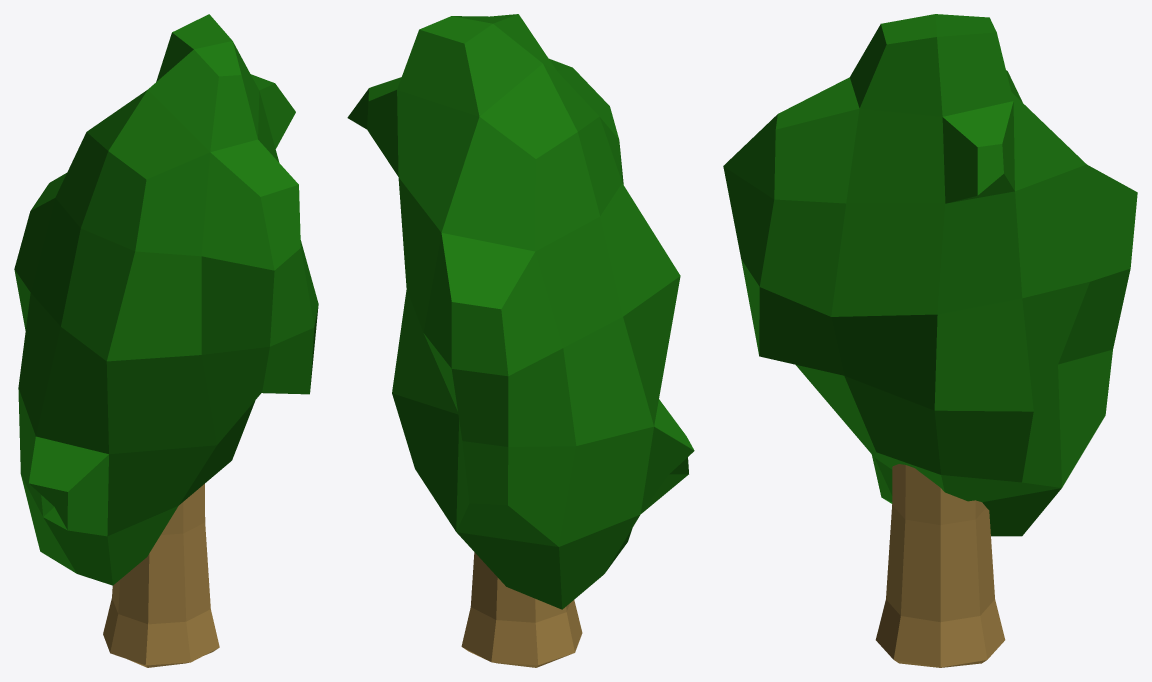
Rendered from tree1.fbx.
3 renders of one model, left to right at view 1: azimuth 30°, elevation 25°; view 2: azimuth 150°, elevation 25°; view 3: azimuth 270°, elevation 25°, orthographic. The views are drawn at different scales.
Visible parts, largest first — view 1: Procedural Low Poly Rock, Cube; view 2: Procedural Low Poly Rock, Cube; view 3: Procedural Low Poly Rock, Cube.
Boxes of the visible parts, x1,y1,x2,y2 form: Procedural Low Poly Rock: (14,14,318,585); Cube: (103,484,219,667); Procedural Low Poly Rock: (347,14,694,609); Cube: (461,552,582,667); Procedural Low Poly Rock: (723,14,1137,536); Cube: (875,464,1005,667).
Size of the model in its own units: 133 by 251 by 144.
